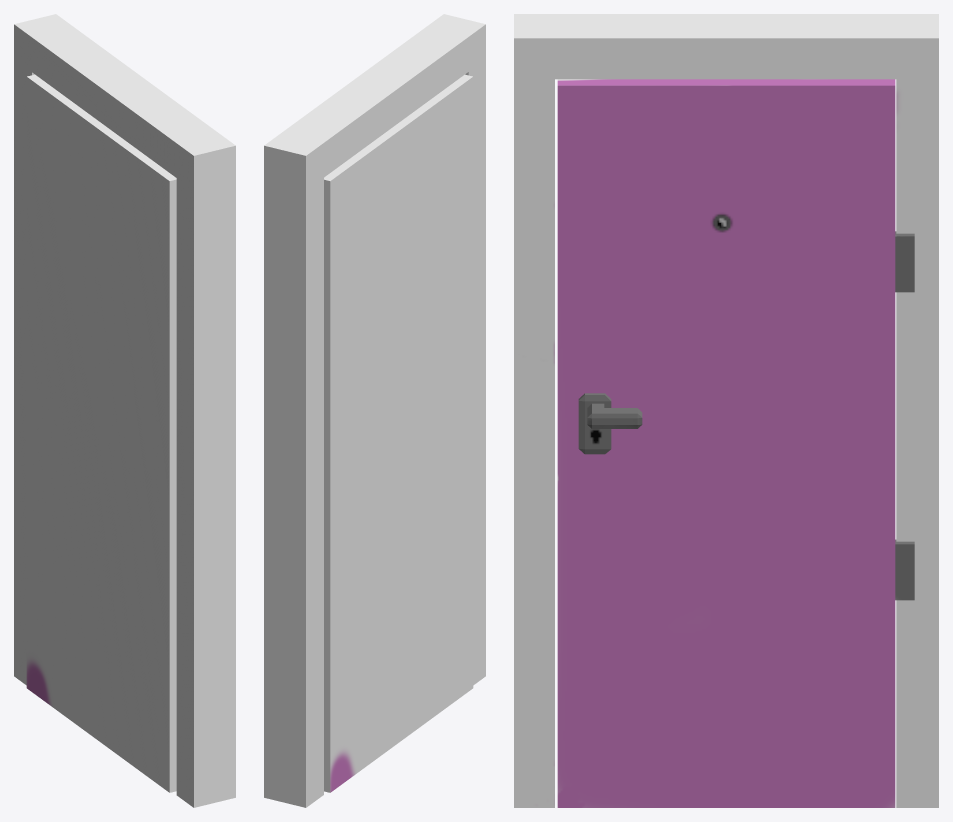
Rendered from drzwi.fbx.
3 renders of one model, left to right at view 1: azimuth 30°, elevation 25°; view 2: azimuth 150°, elevation 25°; view 3: azimuth 270°, elevation 25°, orthographic. The views are drawn at different scales.
Parts seen in each view (by area): view 1: Cube.001; view 2: Cube.001; view 3: Cube.001.
Part boxes in pixels (bbox=[...]): Cube.001: bbox=[14, 14, 235, 807]; Cube.001: bbox=[264, 14, 485, 807]; Cube.001: bbox=[514, 14, 938, 807].
Size of the model in its own units: 48.38 by 400 by 200.
1 material, 1 textured.
